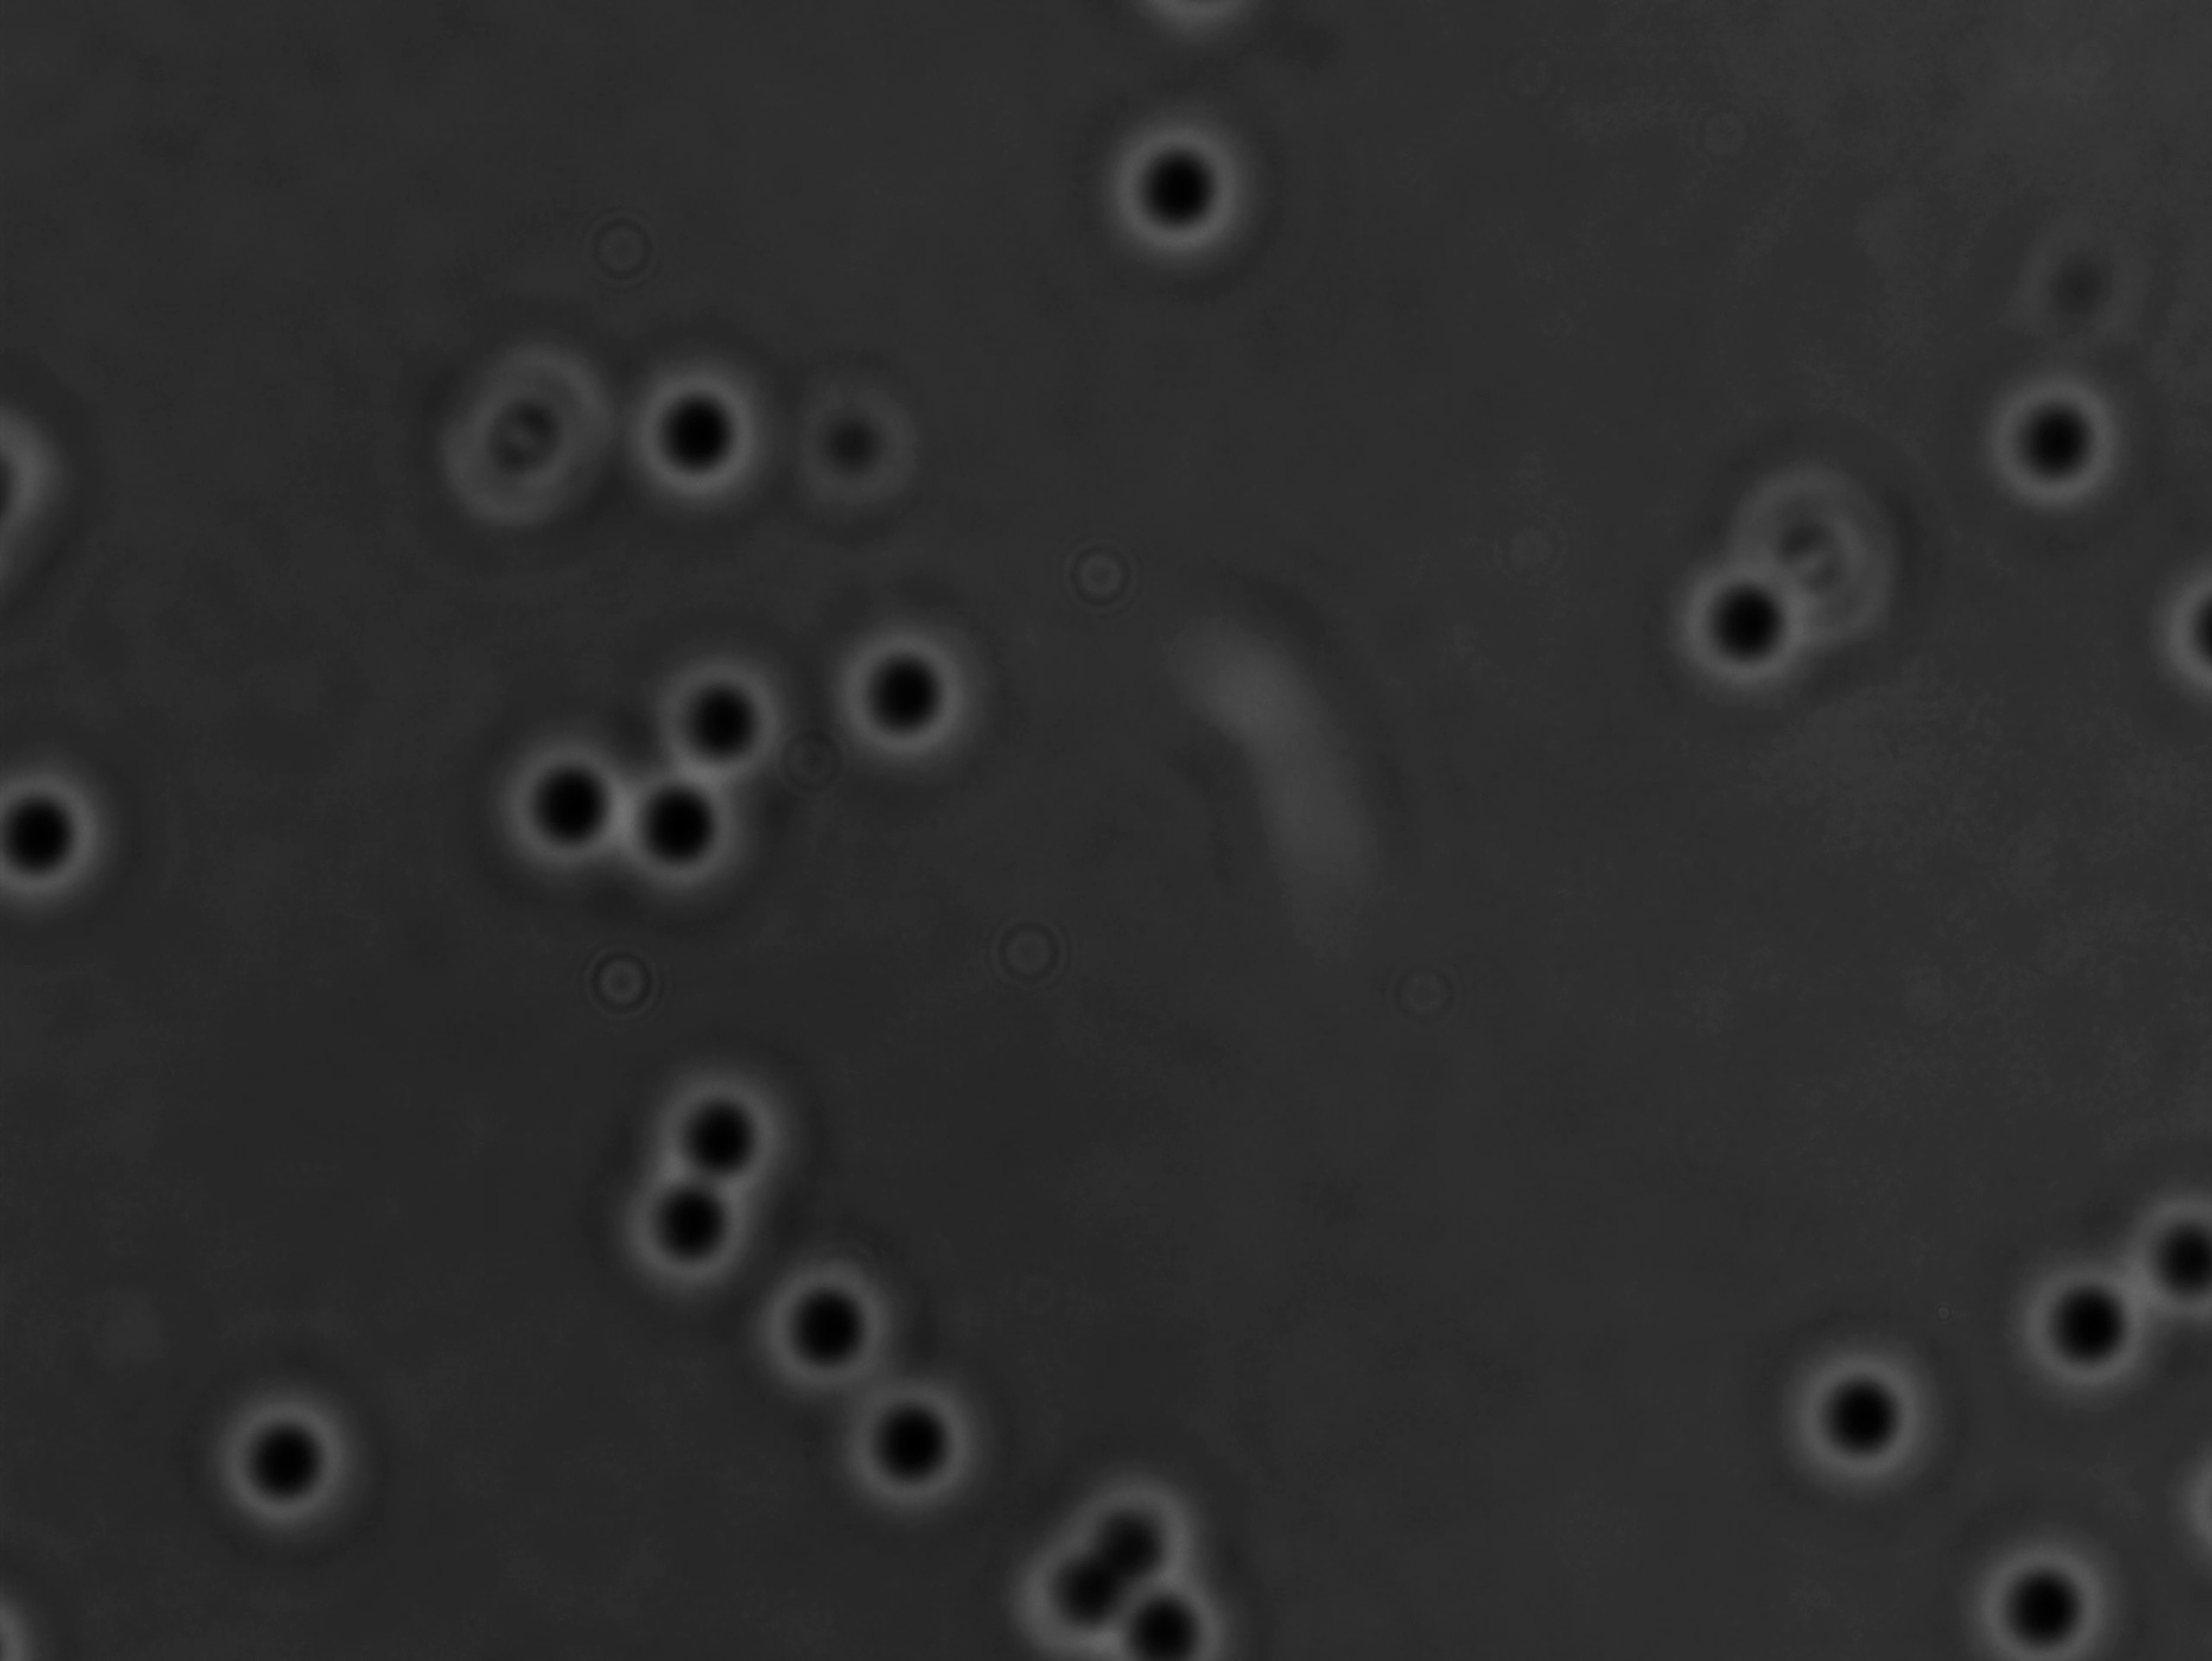depth:-80: (192, 1366, 401, 1556), (1963, 354, 2156, 550), (625, 1052, 836, 1230), (1652, 523, 1847, 715), (1089, 110, 1287, 298), (785, 598, 991, 780), (1744, 1324, 1938, 1514), (1985, 1228, 2174, 1413), (614, 333, 797, 518), (729, 1246, 916, 1422), (822, 1368, 1008, 1544), (1942, 1514, 2160, 1661), (598, 750, 787, 918), (645, 635, 808, 797), (495, 724, 658, 881)
